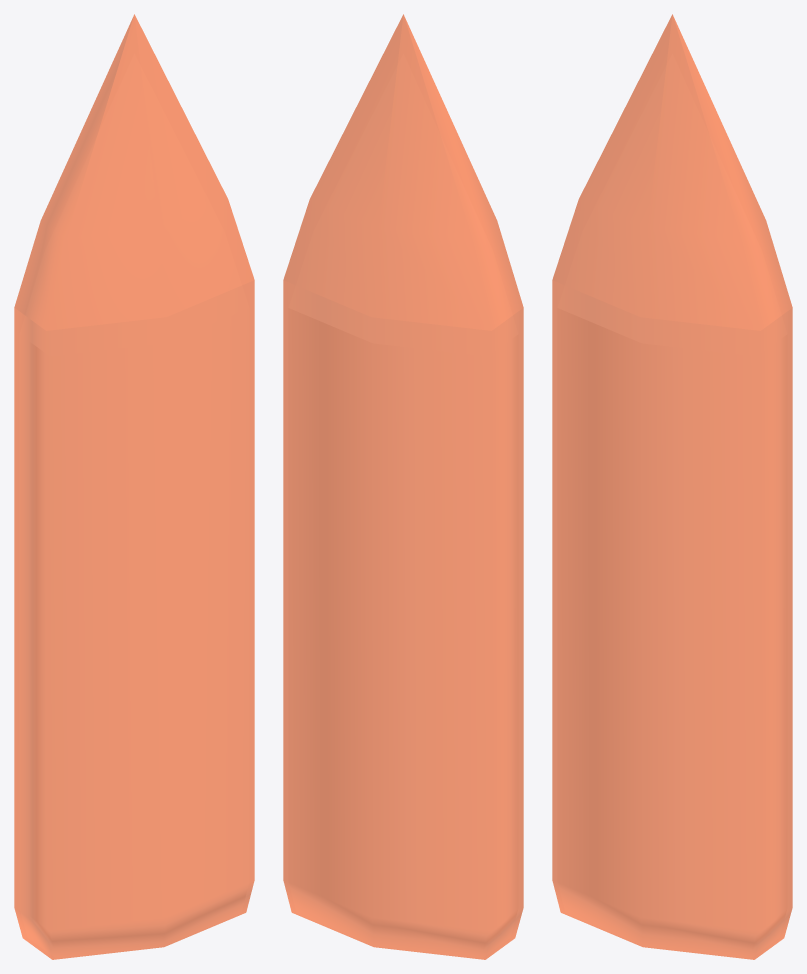
Rendered from 07-einkristall.glb.
The picture shows the model from 3 angles, left to right: view 1: azimuth 30°, elevation 25°; view 2: azimuth 150°, elevation 25°; view 3: azimuth 330°, elevation 25°; orthographic projection.
Visible parts, largest first — view 1: monolith_shaft_rim, monolith_shaft, monolith_tip_rim, monolith_tip; view 2: monolith_shaft_rim, monolith_shaft, monolith_tip_rim, monolith_tip; view 3: monolith_shaft_rim, monolith_shaft, monolith_tip_rim, monolith_tip.
Part boxes in pixels (x1,y1,x2,y2): monolith_shaft_rim: [14, 280, 254, 959]; monolith_shaft: [20, 309, 248, 957]; monolith_tip_rim: [14, 14, 254, 330]; monolith_tip: [20, 54, 248, 355]; monolith_shaft_rim: [283, 280, 523, 959]; monolith_shaft: [289, 309, 517, 957]; monolith_tip_rim: [283, 14, 523, 330]; monolith_tip: [289, 54, 517, 355]; monolith_shaft_rim: [552, 280, 792, 959]; monolith_shaft: [558, 309, 786, 957]; monolith_tip_rim: [552, 14, 792, 330]; monolith_tip: [558, 54, 786, 355].
Bounding box in the file's own units: 0.636 × 2.66 × 0.3378.
